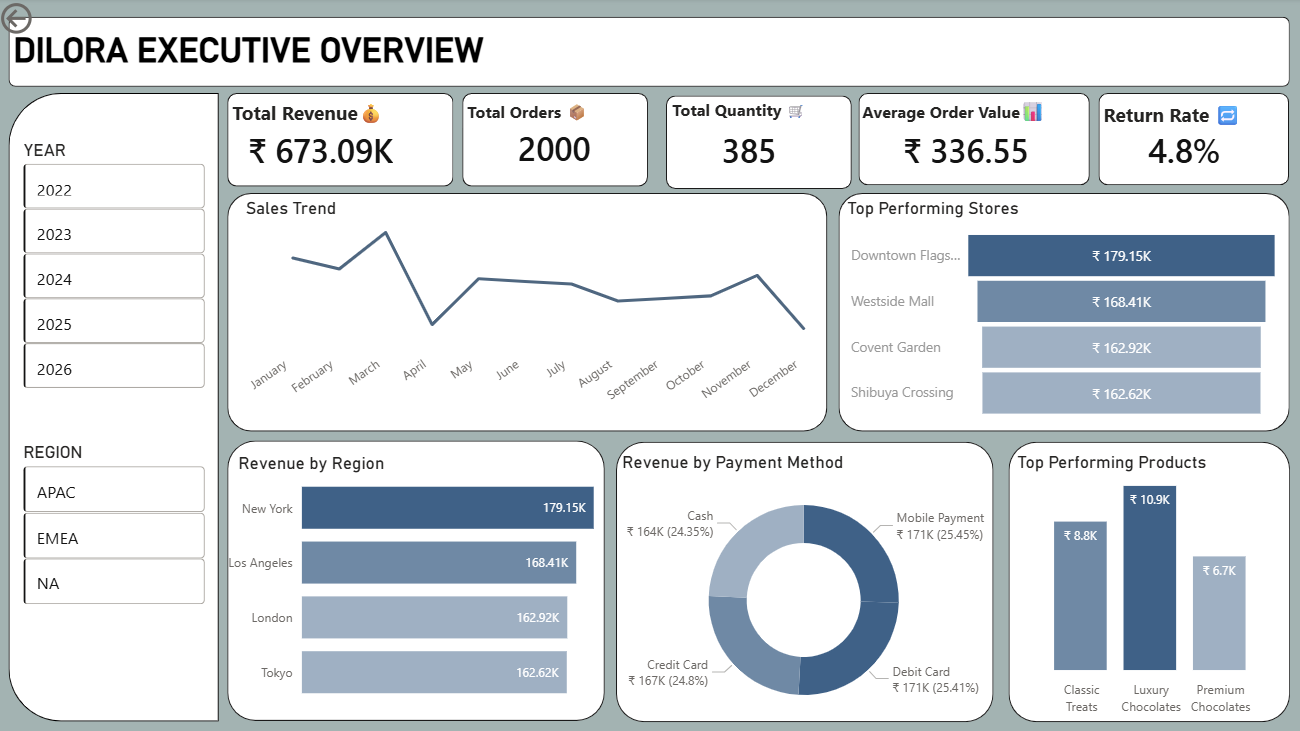

The page's visual inventory and layout, read from the dashboard file:
{"tool":"powerbi","page":{"name":"Executive Overview","canvas":[1280,720],"ordinal":0},"visuals":[{"type":"shape","box":[12.1,92.9,206.3,616.5],"z":0},{"type":"shape","title":"MAIN SHAPE","box":[12.1,18.1,1257.1,68.8],"z":1000},{"type":"shape","title":"SALES SHAPE","box":[226.8,92.9,222,91.7],"z":1000,"group":"g2"},{"type":"shape","title":"SALES SHAPE","box":[457.2,92.9,182.2,91.7],"z":2000},{"type":"shape","title":"SALES SHAPE","box":[1082.2,92.9,187,90.5],"z":3000},{"type":"shape","title":"SALES SHAPE","box":[226.8,191.8,588.7,234],"z":4000,"group":"g3"},{"type":"shape","title":"SALES SHAPE","box":[226.8,434.3,370.4,275.1],"z":4000},{"type":"shape","title":"SALES SHAPE","box":[826.4,191.8,442.8,234],"z":5000,"group":"g1"},{"type":"shape","title":"SALES SHAPE","box":[608,435.5,370.4,275.1],"z":5000},{"type":"shape","title":"SALES SHAPE","box":[845.7,92.9,226.8,90.5],"z":6000},{"type":"textbox","box":[844.5,92.9,218.4,39.8],"z":7000},{"type":"textbox","box":[457.2,95.3,164.1,39.8],"z":8000},{"type":"textbox","box":[1082.2,96.5,170.1,39.8],"z":9000},{"type":"textbox","box":[12.1,26.5,762.5,53.1],"z":10000},{"type":"textbox","box":[226.8,94.1,174.9,41],"z":10000,"group":"g2"},{"type":"shape","title":"SALES SHAPE","box":[992.9,435.5,276.3,275.1],"z":11000},{"type":"cardVisual","fields":{"Data":["Table.Total Orders"]},"box":[482.6,112.2,178.6,70],"z":12000},{"type":"cardVisual","fields":{"Data":["Table.AOV"]},"box":[861.4,113.4,220.8,70],"z":13000},{"type":"cardVisual","fields":{"Data":["Table.Return Rate"]},"box":[1101.5,113.4,150.8,70],"z":14000},{"type":"shape","title":"SALES SHAPE","box":[657.5,95.3,182.2,91.7],"z":15000},{"type":"textbox","box":[658.7,92.9,218.4,39.8],"z":16000},{"type":"cardVisual","fields":{"Data":["Table.Total Revenue"]},"box":[218.4,113.4,206.3,68.8],"z":16000,"group":"g2"},{"type":"cardVisual","fields":{"Data":["Table.Total Quantity"]},"box":[682.8,113.4,178.6,70],"z":17000},{"type":"clusteredBarChart","title":"🌍 SALES BY REGION","fields":{"Category":["Store.city"],"Y":["Table.Total Revenue"]},"box":[218.4,445.2,421,265.4],"z":18000},{"type":"donutChart","title":"💳 PAYMENT METHOD SPLIT","fields":{"Category":["Sales.PaymentMethod"],"Y":["Table.Total Revenue"]},"box":[592.4,460.9,400.5,259.4],"z":19000},{"type":"textbox","box":[609.3,440.4,283.5,39.8],"z":20000},{"type":"textbox","box":[996.5,440.4,283.5,39.8],"z":21000},{"type":"textbox","box":[232.8,441.6,283.5,39.8],"z":22000},{"type":"lineChart","title":"📈 Sales Trend Over Time","fields":{"Y":["Table.Total Revenue"],"Category":["Date Table.Date.Variation.Date Hierarchy.Month"]},"box":[238.9,214.7,576.7,202.7],"z":23000,"group":"g3"},{"type":"columnChart","fields":{"Category":["Product.category"],"Y":["Orders.Line Total Revenue"]},"box":[996.5,441.6,264.2,269],"z":23000},{"type":"actionButton","box":[0,0,100,40],"z":24000},{"type":"group","id":"g1","title":"Group 1","box":[826.4,191.8,442.8,234],"z":25000},{"type":"group","id":"g2","title":"Group 2","box":[218.4,92.9,230.4,91.7],"z":26000},{"type":"group","id":"g3","title":"Group 4","box":[226.8,191.8,588.7,234],"z":27000},{"type":"textbox","box":[830,191.8,283.5,39.8],"z":27000,"group":"g1"},{"type":"advancedSlicerVisual","title":"YEAR","fields":{"Values":["Date Table.Year"]},"box":[21.7,138.7,188.2,249.7],"z":28000},{"type":"textbox","box":[240.1,191.8,283.5,39.8],"z":28000,"group":"g3"},{"type":"advancedSlicerVisual","title":"REGION","fields":{"Values":["Store.region"]},"box":[21.7,435.5,188.2,166.5],"z":29000},{"type":"funnel","fields":{"Category":["Store.name"],"Y":["Table.Total Revenue"]},"box":[833.6,223.2,430.7,194.2],"z":30004,"group":"g1"}]}

Visuals, with their boxes in screenshot pixels (x1, y1, x2, y2), scaled from the page's 1280x720 canvas onto the 1300x731 screenshot:
shape: Rect(12, 94, 222, 720)
"MAIN SHAPE" shape: Rect(12, 18, 1289, 88)
"SALES SHAPE" shape: Rect(230, 94, 456, 187)
"SALES SHAPE" shape: Rect(464, 94, 649, 187)
"SALES SHAPE" shape: Rect(1099, 94, 1289, 186)
"SALES SHAPE" shape: Rect(230, 195, 828, 432)
"SALES SHAPE" shape: Rect(230, 441, 607, 720)
"SALES SHAPE" shape: Rect(839, 195, 1289, 432)
"SALES SHAPE" shape: Rect(618, 442, 994, 721)
"SALES SHAPE" shape: Rect(859, 94, 1089, 186)
textbox: Rect(858, 94, 1080, 135)
textbox: Rect(464, 97, 631, 137)
textbox: Rect(1099, 98, 1272, 138)
textbox: Rect(12, 27, 787, 81)
textbox: Rect(230, 96, 408, 137)
"SALES SHAPE" shape: Rect(1008, 442, 1289, 721)
cardVisual - Table.Total Orders: Rect(490, 114, 672, 185)
cardVisual - Table.AOV: Rect(875, 115, 1099, 186)
cardVisual - Table.Return Rate: Rect(1119, 115, 1272, 186)
"SALES SHAPE" shape: Rect(668, 97, 853, 190)
textbox: Rect(669, 94, 891, 135)
cardVisual - Table.Total Revenue: Rect(222, 115, 431, 185)
cardVisual - Table.Total Quantity: Rect(693, 115, 875, 186)
"🌍 SALES BY REGION" clusteredBarChart: Rect(222, 452, 649, 721)
"💳 PAYMENT METHOD SPLIT" donutChart: Rect(602, 468, 1008, 730)
textbox: Rect(619, 447, 907, 488)
textbox: Rect(1012, 447, 1299, 488)
textbox: Rect(236, 448, 524, 489)
"📈 Sales Trend Over Time" lineChart: Rect(243, 218, 828, 424)
columnChart - Product.category x Orders.Line Total Revenue: Rect(1012, 448, 1280, 721)
actionButton: Rect(0, 0, 102, 41)
"Group 1" group: Rect(839, 195, 1289, 432)
"Group 2" group: Rect(222, 94, 456, 187)
"Group 4" group: Rect(230, 195, 828, 432)
textbox: Rect(843, 195, 1131, 235)
"YEAR" advancedSlicerVisual: Rect(22, 141, 213, 394)
textbox: Rect(244, 195, 532, 235)
"REGION" advancedSlicerVisual: Rect(22, 442, 213, 611)
funnel - Store.name x Table.Total Revenue: Rect(847, 227, 1284, 424)
